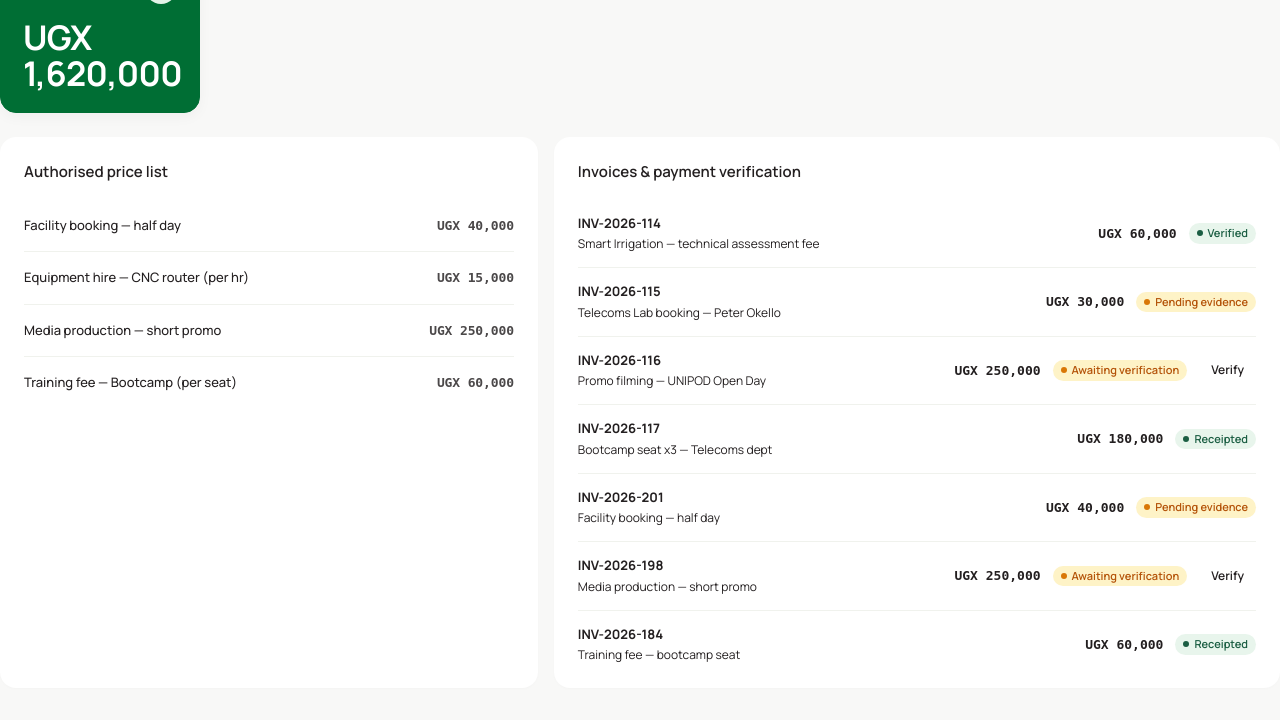
Test: PriceListsInvoicesPage › opens payment verification modal when clicking verify on invoice 116
(page scrolled)
Click the button "Verify" in the row of "Promo filming — UNIPOD Open Day": (1228,370) [1199, 357, 1256, 383]
(page scrolled)
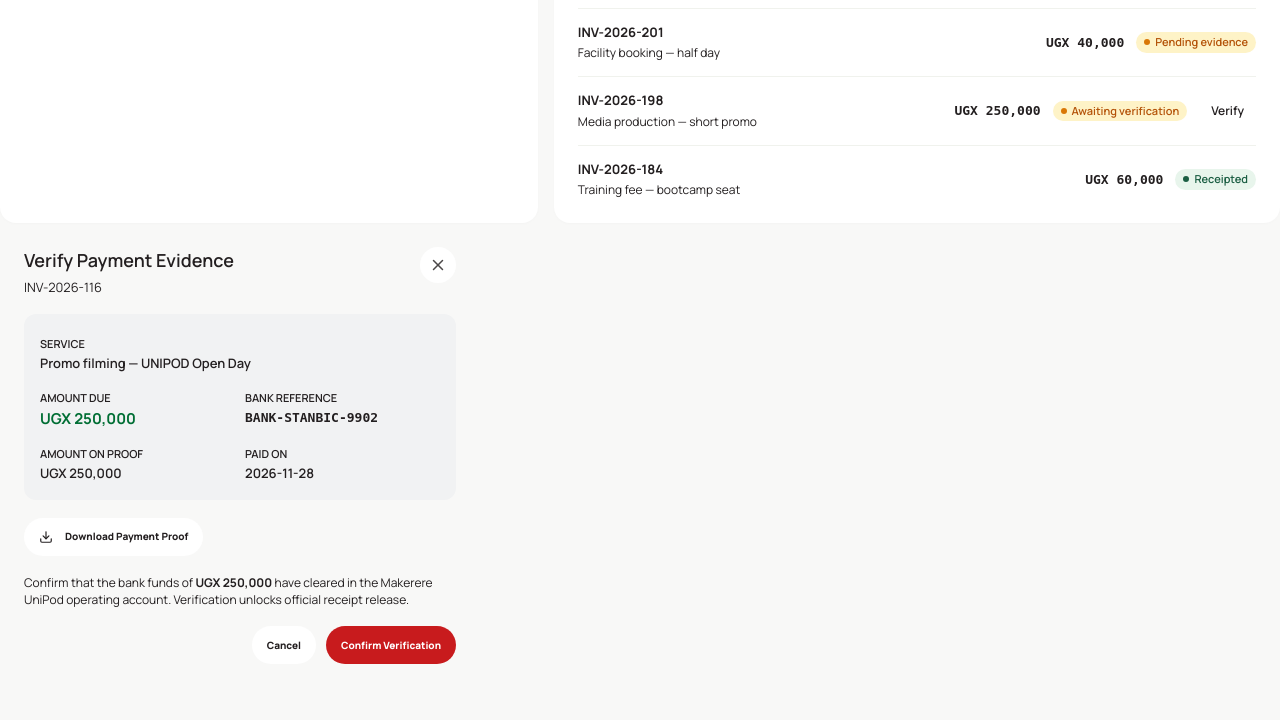
Expected: the heading "Verify Payment Evidence" is shown, [24, 247, 234, 274]
Expected: the button "Confirm Verification" is shown, [326, 626, 456, 664]
Expected: the button "Download Payment Proof" is shown, [24, 518, 203, 556]
